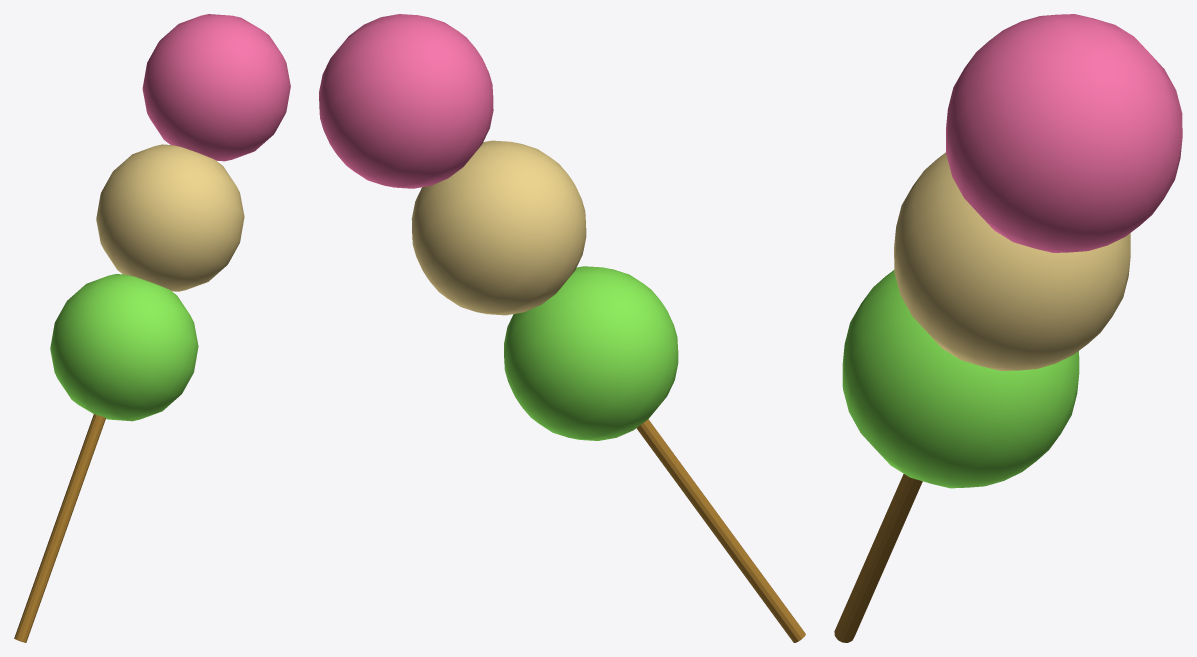
Rendered from Dango.fbx.
The picture shows the model from 3 angles, left to right: view 1: azimuth 30°, elevation 25°; view 2: azimuth 150°, elevation 25°; view 3: azimuth 270°, elevation 25°; orthographic projection. The views are drawn at different scales.
Visible parts, largest first — view 1: sm_dango_colourful; view 2: sm_dango_colourful; view 3: sm_dango_colourful.
Boxes of the visible parts, x1,y1,x2,y2 form: sm_dango_colourful: (14, 14, 290, 642); sm_dango_colourful: (319, 14, 805, 642); sm_dango_colourful: (834, 14, 1182, 642).
Bounding box in the file's own units: 57.61 × 84.12 × 32.24.
